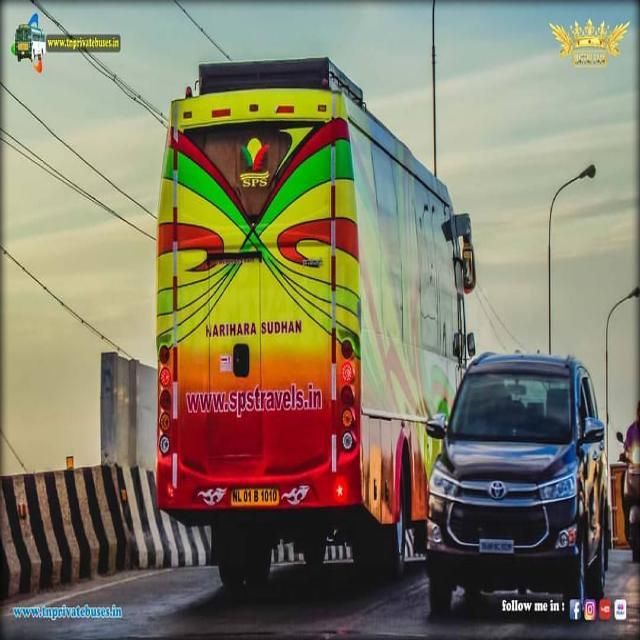Bus: (152, 54, 476, 577)
Car: (423, 348, 612, 610)
